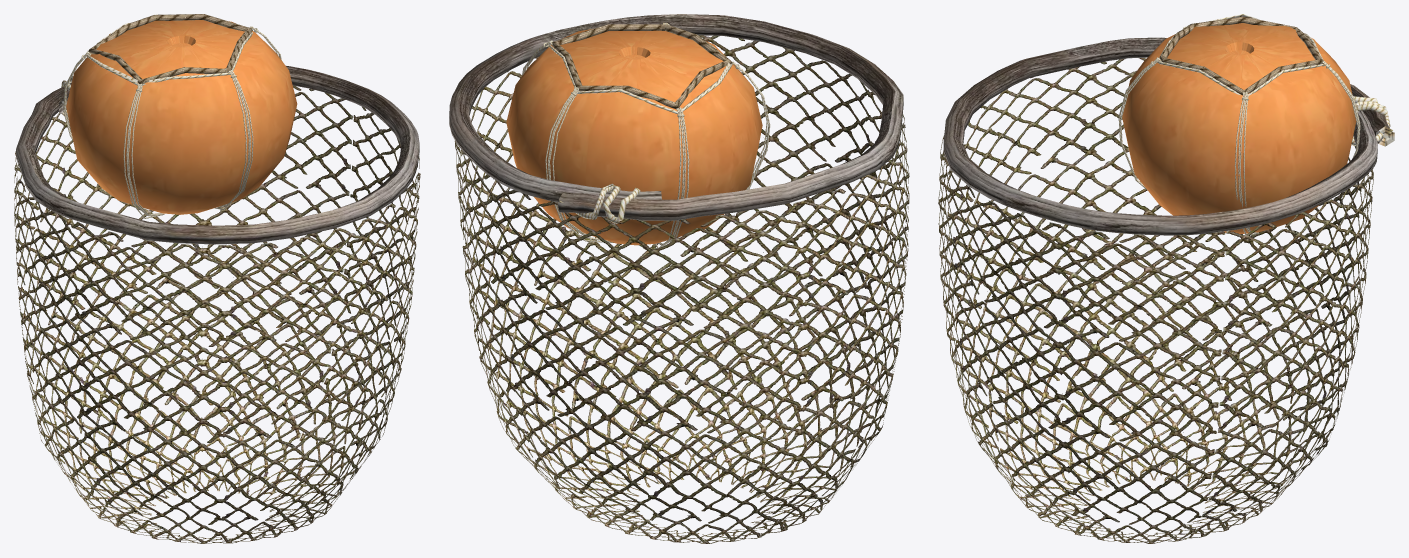
Rendered from tewak.glb.
3 renders of one model, left to right at view 1: azimuth 30°, elevation 25°; view 2: azimuth 150°, elevation 25°; view 3: azimuth 270°, elevation 25°, orthographic. The views are drawn at different scales.
Parts seen in each view (by area): view 1: polySurface2_blinn2_0; view 2: polySurface2_blinn2_0; view 3: polySurface2_blinn2_0.
Part boxes in pixels (box(x1,y1,x2,y2)): polySurface2_blinn2_0: box(14, 14, 420, 543); polySurface2_blinn2_0: box(449, 14, 909, 543); polySurface2_blinn2_0: box(938, 14, 1394, 543).
Size of the model in its own units: 0.7234 by 0.8529 by 0.7493.
Materials: 1 (1 with a texture image).
